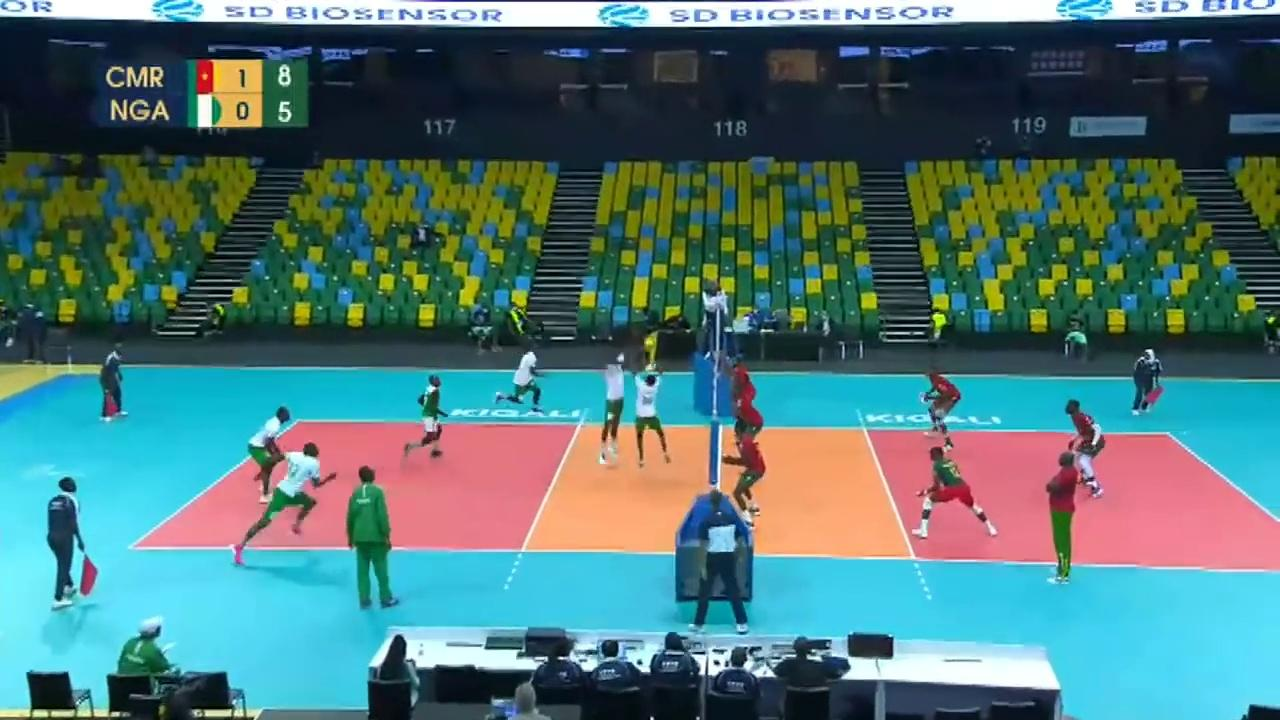player: (236, 443, 331, 551), (915, 440, 999, 537), (249, 406, 296, 503), (728, 421, 771, 527), (1062, 397, 1106, 499), (628, 366, 671, 467), (596, 351, 630, 466), (499, 344, 545, 414), (728, 384, 762, 476), (411, 374, 447, 457), (726, 355, 759, 439), (924, 366, 963, 432)
refree: (694, 486, 748, 633), (45, 479, 95, 606), (699, 268, 734, 349), (100, 343, 126, 424), (1135, 349, 1165, 415)
